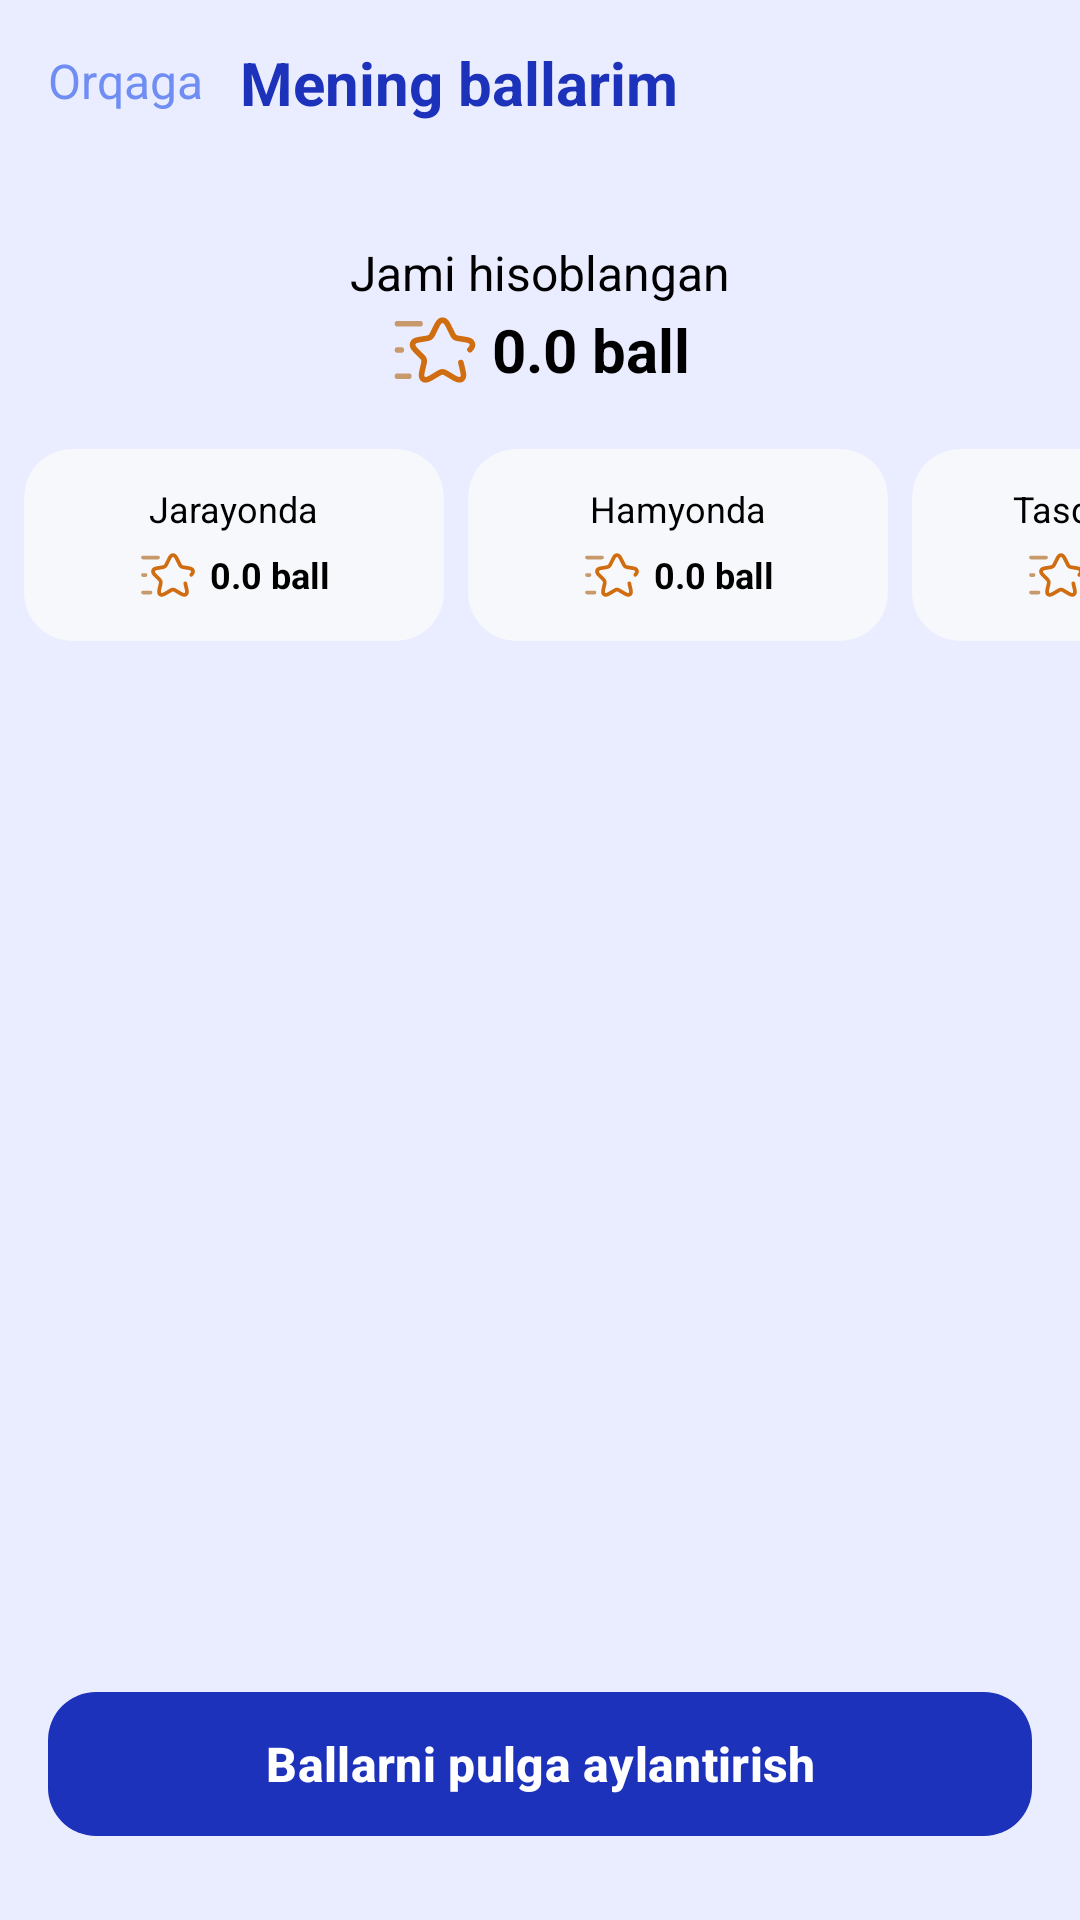

Where to tap for icons on this 1080 × 1920 app screen, as (x=x, y=y):
star: (x=435, y=350), (x=168, y=575), (x=612, y=575), (x=1054, y=575)
